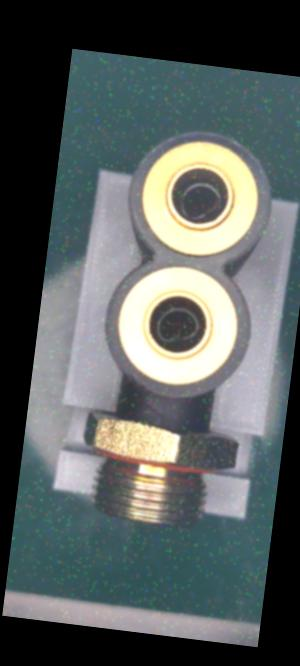craze: (141, 401, 163, 417)
off-centered: (171, 171, 229, 226), (151, 300, 207, 348)
